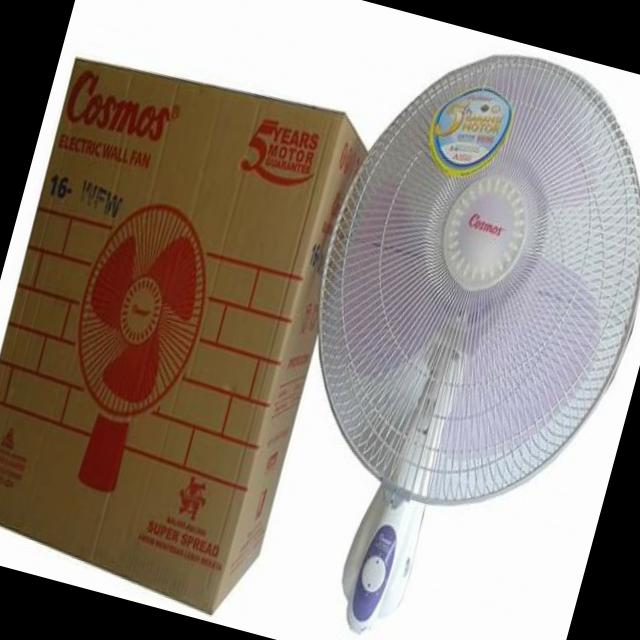fan: (224, 7, 640, 640)
